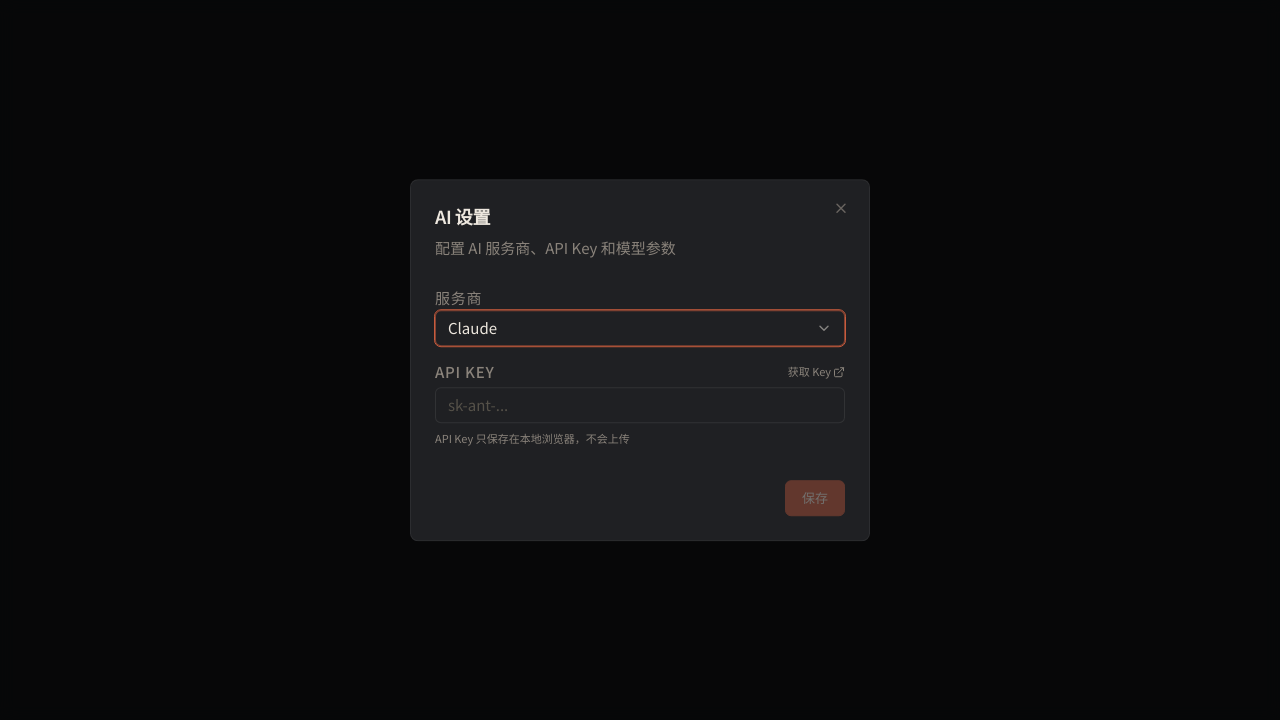
Test: AIConfigDialog › probe failure error display › displays 404 error on not found
Type "sk-ant-badmodel" into the password field labelled "API Key" at (640, 405), box [435,387,845,423]
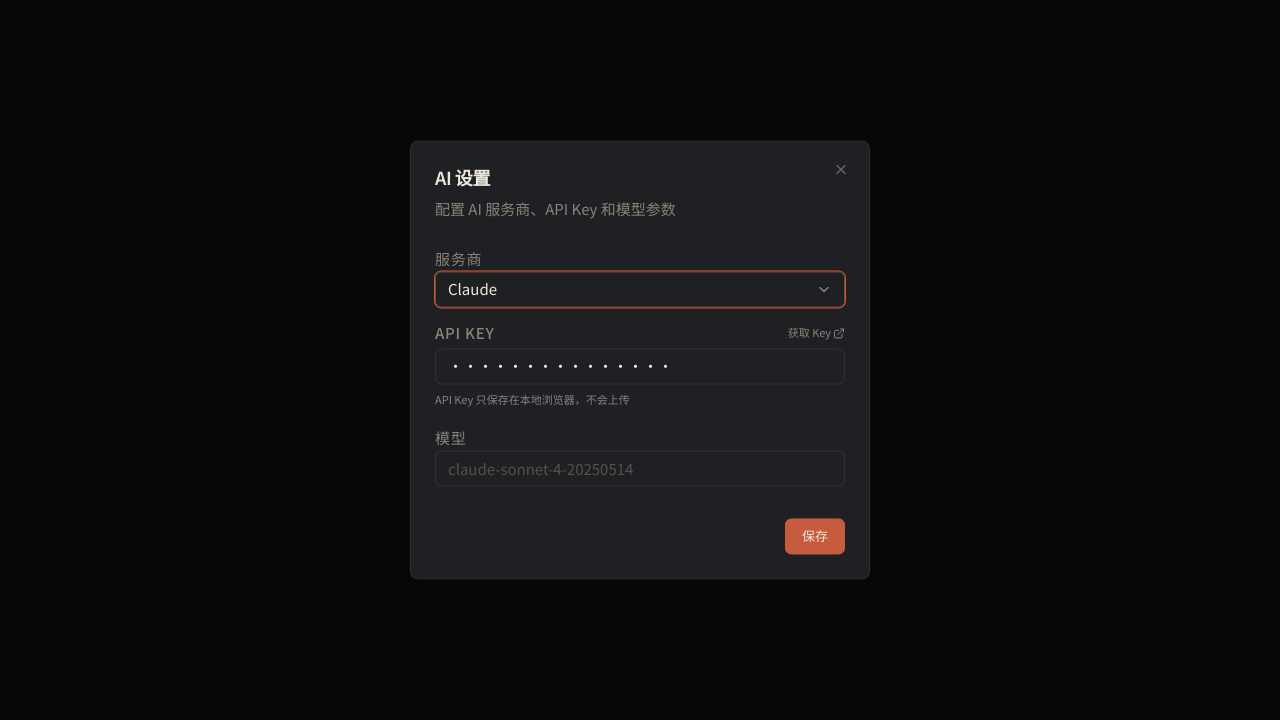
Click the button "保存" at (815, 536), box [785,518,845,554]
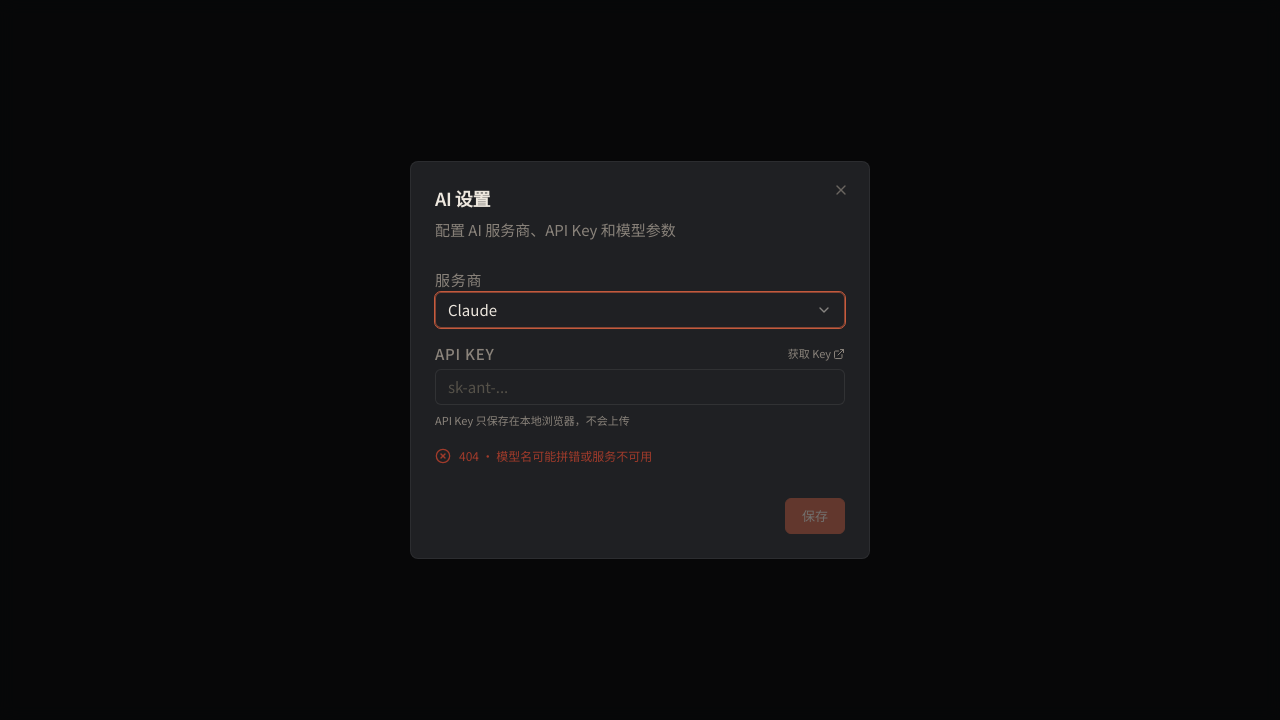
Now the text "404 · 模型名可能拼错或服务不可用" is shown, box [459,446,652,466]
